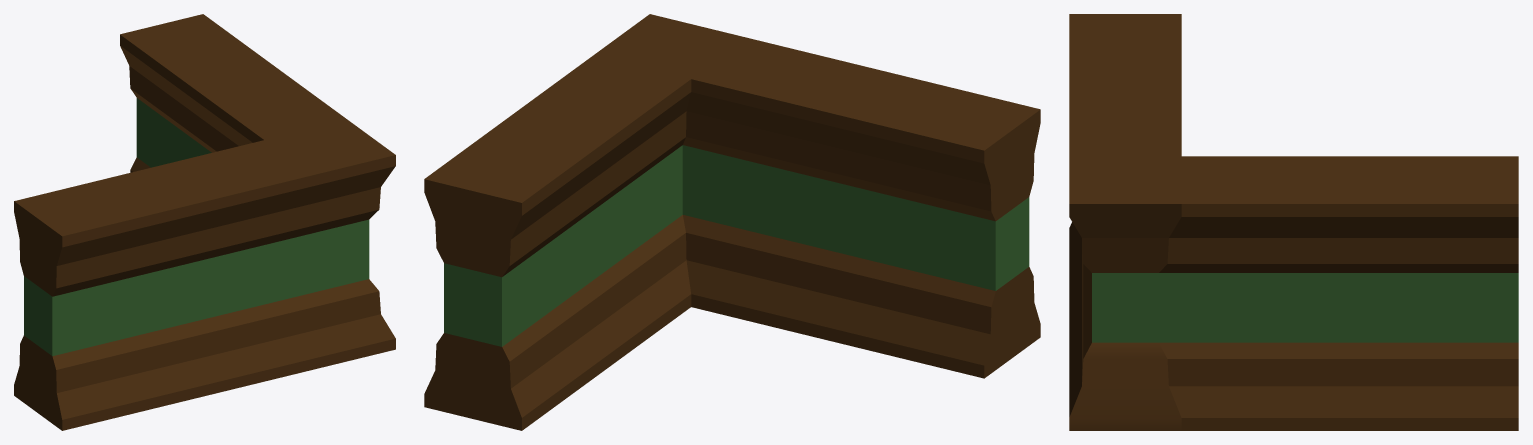
The model's file is cornerWall_half_GEO.fbx.
The picture shows the model from 3 angles, left to right: view 1: azimuth 30°, elevation 25°; view 2: azimuth 150°, elevation 25°; view 3: azimuth 270°, elevation 25°; orthographic projection. The views are drawn at different scales.
Parts seen in each view (by area): view 1: wallCorner.001; view 2: wallCorner.001; view 3: wallCorner.001.
Boxes of the visible parts, left/top/right/bottom form: wallCorner.001: left=14, top=14, right=395, bottom=430; wallCorner.001: left=424, top=14, right=1040, bottom=430; wallCorner.001: left=1069, top=14, right=1518, bottom=430.
Size of the model in its own units: 200 by 111 by 200.
